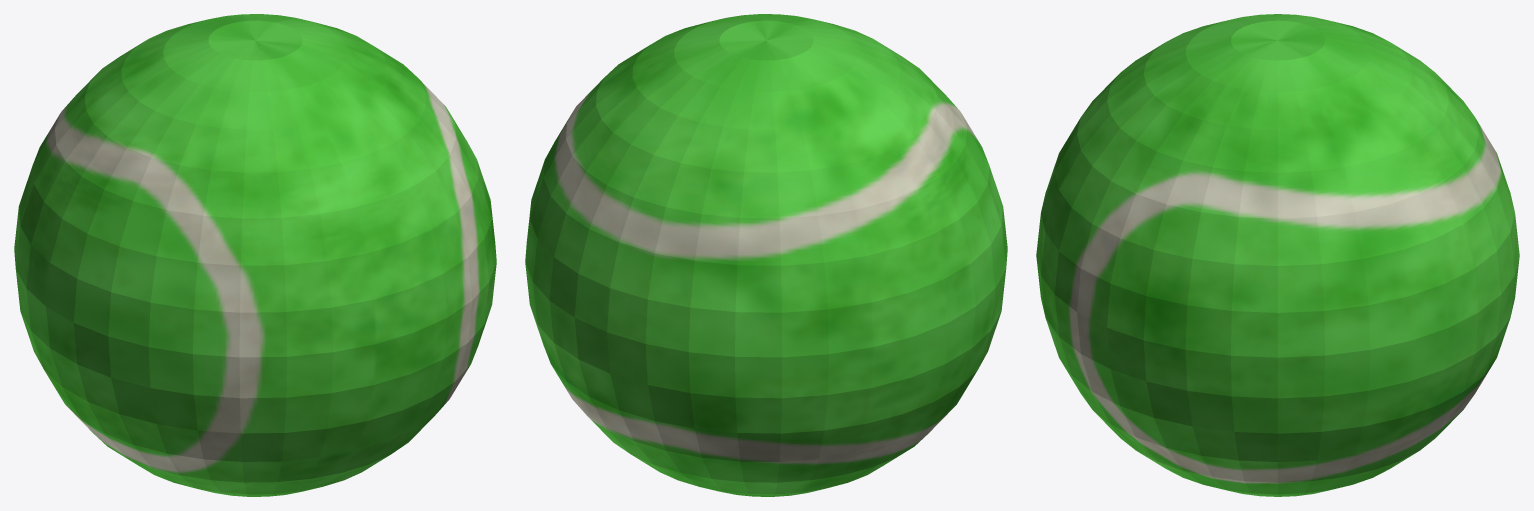
The model's file is ball.obj.
3 views of the same model, side by side, from view 1: azimuth 30°, elevation 25°; view 2: azimuth 150°, elevation 25°; view 3: azimuth 270°, elevation 25° (orthographic).
Parts seen in each view (by area): view 1: Sphere; view 2: Sphere; view 3: Sphere.
Boxes of the visible parts, left/top/right/bottom form: Sphere: left=14, top=14, right=496, bottom=496; Sphere: left=525, top=14, right=1007, bottom=496; Sphere: left=1036, top=14, right=1519, bottom=496.
Size of the model in its own units: 2 by 1.96 by 2.
Materials: 1 (1 with a texture image).
